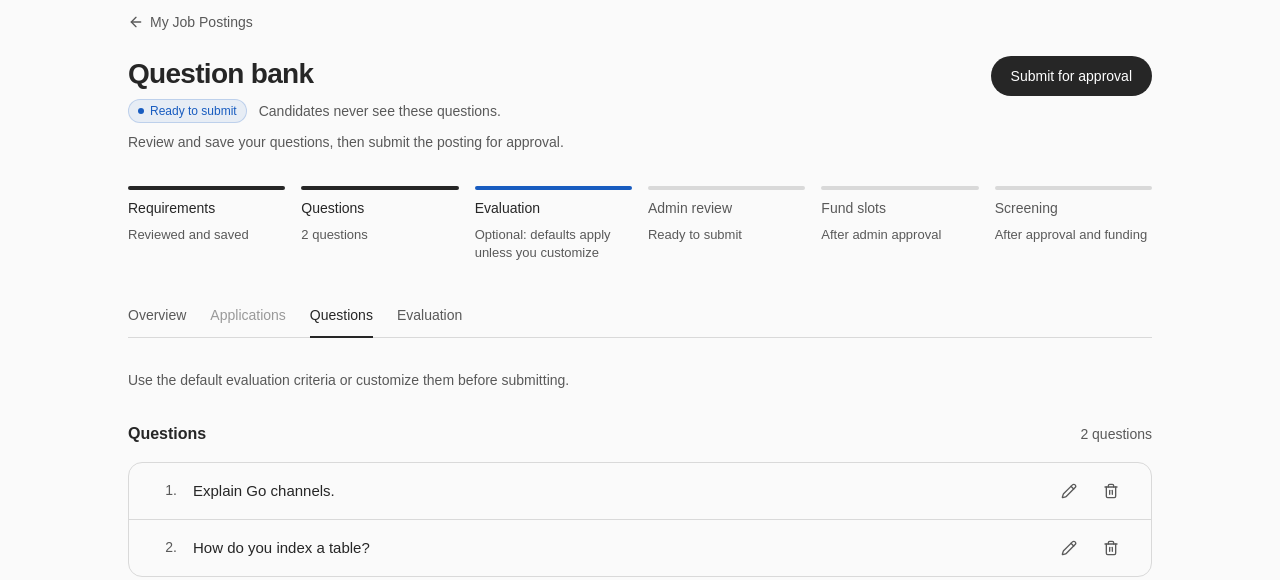
Test: QuestionBank › deletes a question after confirmation
Click the button named "Delete question 2".
click(1111, 548)  # box [1091,528,1131,568]
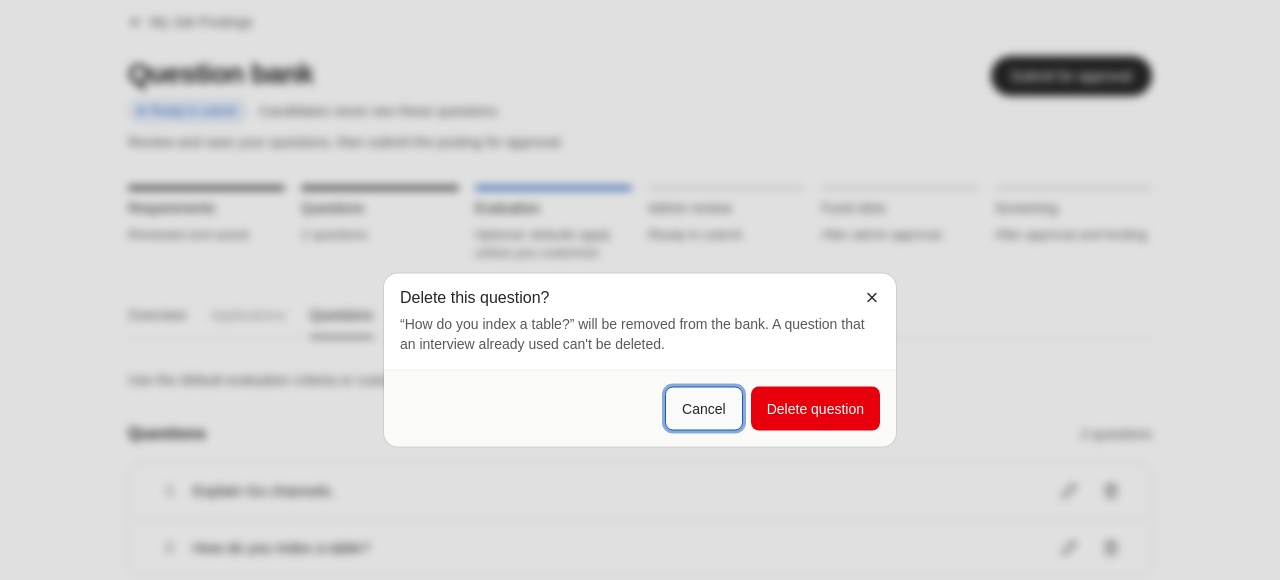
Click the button "Delete question".
click(815, 408)  # box [751,386,880,430]
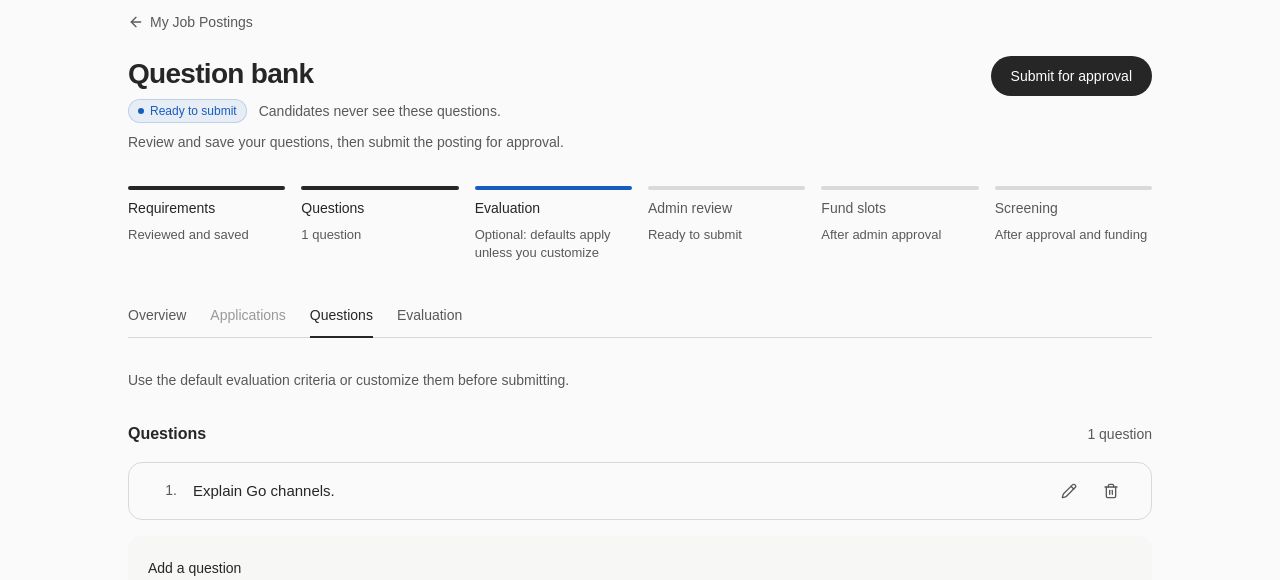
Expected: the text "How do you index a table?" is gone
